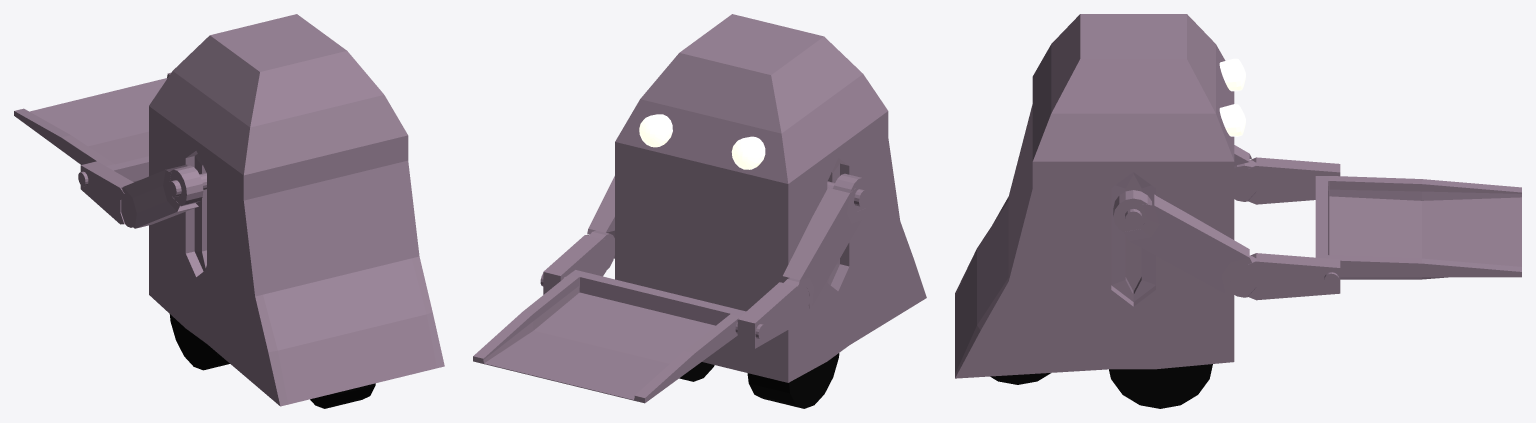
Rendered from RobotTESTE.glb.
3 renders of one model, left to right at view 1: azimuth 30°, elevation 25°; view 2: azimuth 150°, elevation 25°; view 3: azimuth 270°, elevation 25°, orthographic. The views are drawn at different scales.
Visible parts, largest first — view 1: Body, Pá, FrontWheel_01, FrontWheel_01.001; view 2: Body, Pá, FrontWheel_01, Eye_Left; view 3: Body, Pá, FrontWheel_01.002, Eye_Left.
Boxes of the visible parts, bbox=[...] form: Body: bbox=[78, 14, 444, 406]; Pá: bbox=[14, 72, 170, 182]; FrontWheel_01: bbox=[169, 314, 229, 370]; FrontWheel_01.001: bbox=[310, 383, 375, 408]; Body: bbox=[540, 14, 926, 382]; Pá: bbox=[473, 270, 745, 403]; FrontWheel_01: bbox=[747, 353, 839, 408]; Eye_Left: bbox=[639, 114, 765, 169]; Body: bbox=[955, 14, 1340, 378]; Pá: bbox=[1315, 176, 1521, 279]; FrontWheel_01.002: bbox=[1109, 364, 1212, 408]; Eye_Left: bbox=[1219, 58, 1245, 136].
Size of the model in its own units: 2.58 by 3.7 by 5.62.
